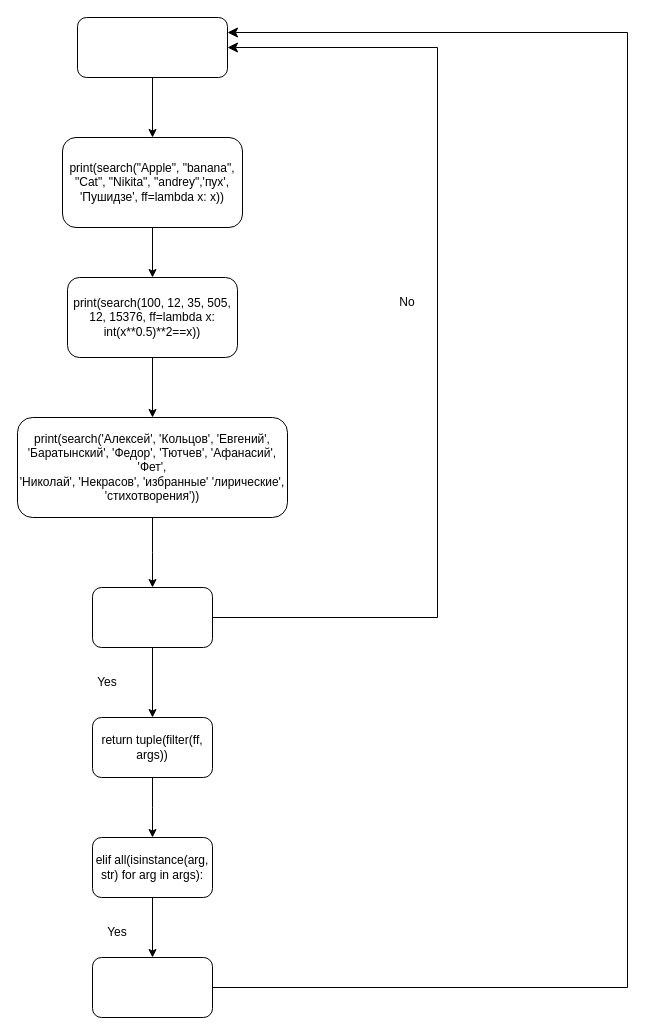
The diagram is 655 pixels wide and 1035 high, and some of its shapes have lost their labels. Each missing label, with the centre of its shape:
"filter_str=filter(ff,args) return tuple(filter_str)" belongs at point 152,987.
"if all(isinstance(arg, int) for arg in args):" belongs at point 152,617.
"print(search(1, 2, 3, 4, 5, 6, ff=lambda x: x % 2))" belongs at point 152,47.
